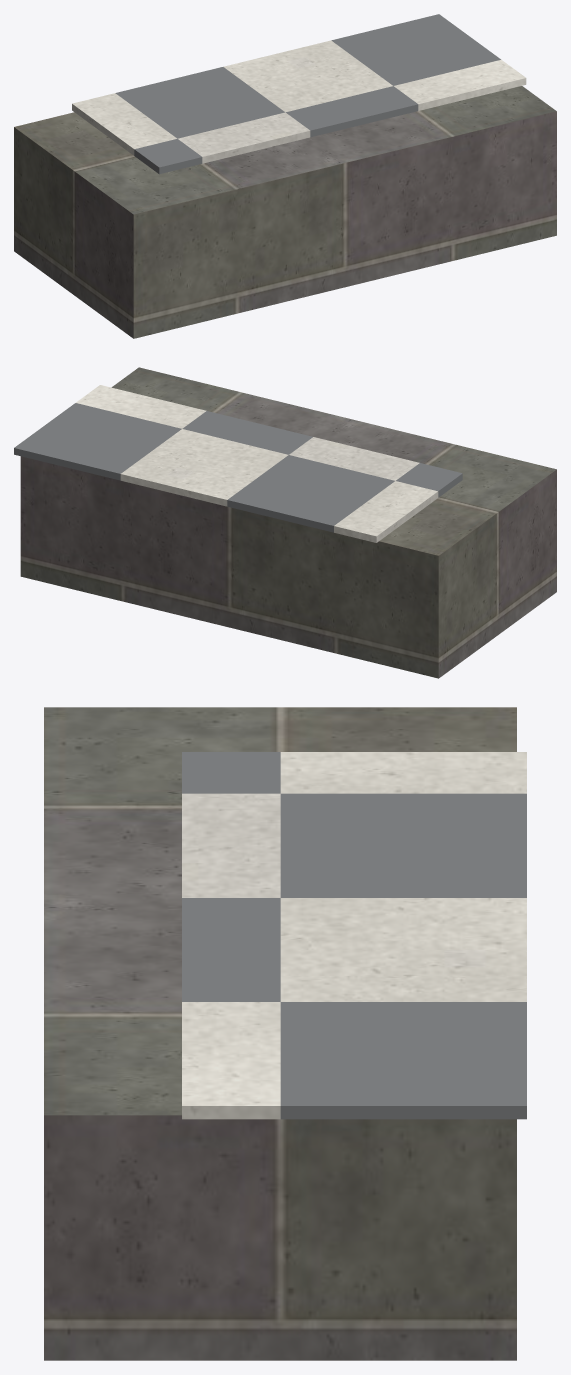
File: floor_marble_g_half_e1001.glb
3 views of the same model, one above another, from view 1: azimuth 30°, elevation 25°; view 2: azimuth 150°, elevation 25°; view 3: azimuth 270°, elevation 25° (orthographic). The views are drawn at different scales.
Parts seen in each view (by area): view 1: floor_marble_g_half_e1001_plinth, floor_marble_g_half_e1001_slate, floor_marble_g_half_e1001_marble; view 2: floor_marble_g_half_e1001_plinth, floor_marble_g_half_e1001_slate, floor_marble_g_half_e1001_marble; view 3: floor_marble_g_half_e1001_plinth, floor_marble_g_half_e1001_slate, floor_marble_g_half_e1001_marble.
Boxes of the visible parts, x1,y1,x2,y2 form: floor_marble_g_half_e1001_plinth: (14, 86, 556, 338); floor_marble_g_half_e1001_slate: (115, 14, 500, 174); floor_marble_g_half_e1001_marble: (72, 40, 526, 163); floor_marble_g_half_e1001_plinth: (20, 367, 556, 678); floor_marble_g_half_e1001_slate: (14, 403, 462, 532); floor_marble_g_half_e1001_marble: (76, 385, 438, 542); floor_marble_g_half_e1001_plinth: (44, 707, 516, 1360); floor_marble_g_half_e1001_slate: (182, 752, 526, 1119); floor_marble_g_half_e1001_marble: (182, 752, 526, 1119).
Size of the model in its own units: 1.98 by 0.58 by 0.98.
Materials: 3 (2 with a texture image).
